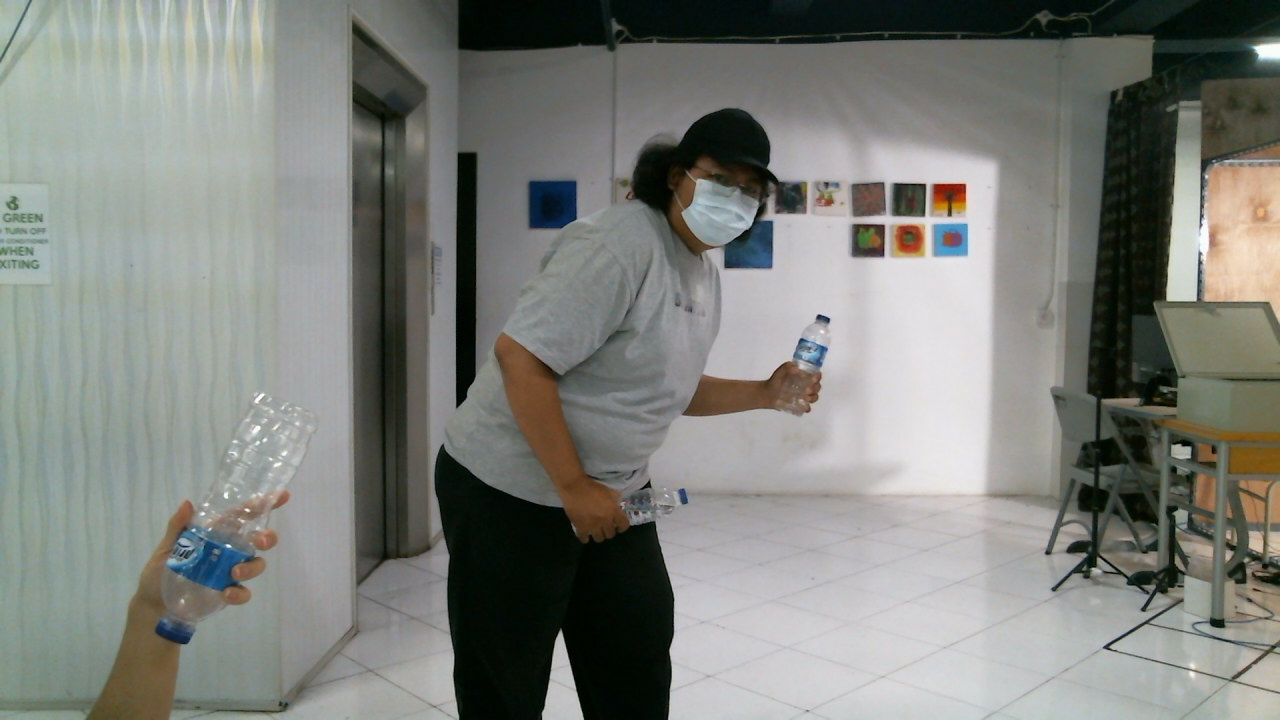Bottle: (150, 396, 312, 646), (778, 316, 830, 414)
